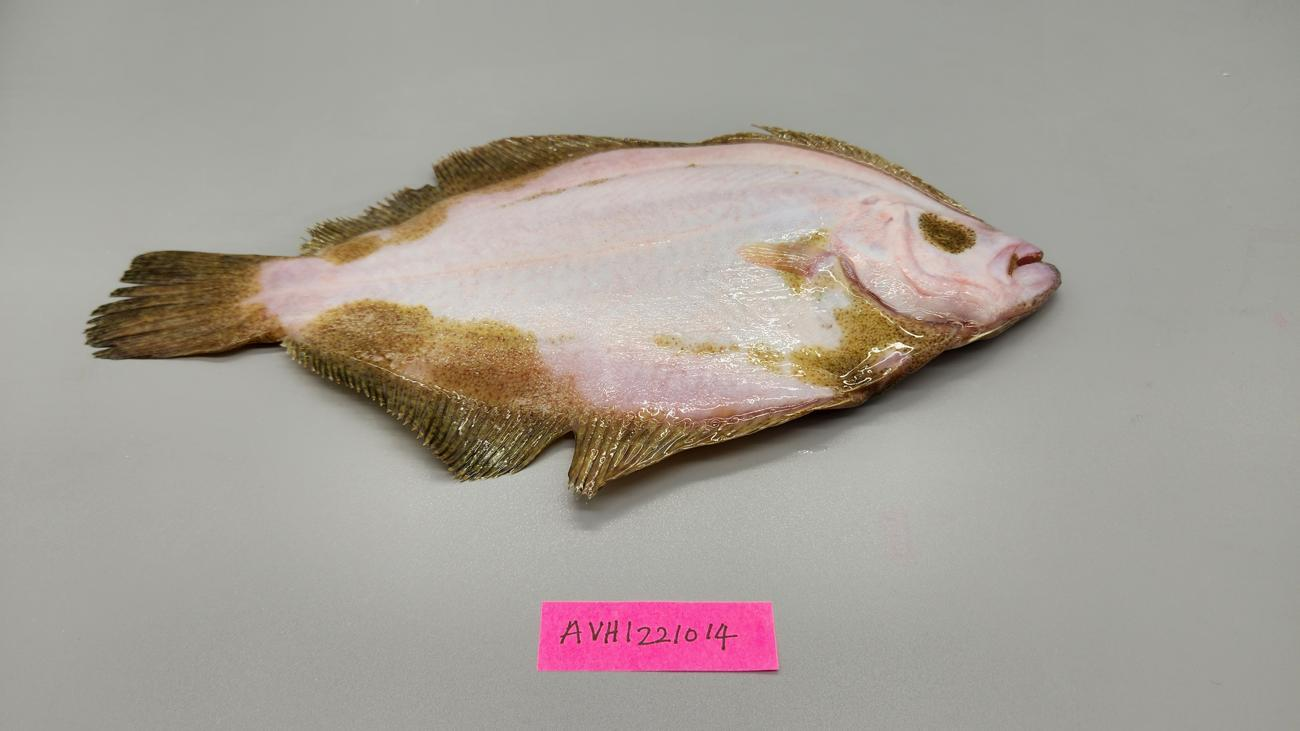VIOUY: (91, 126, 1061, 500)
